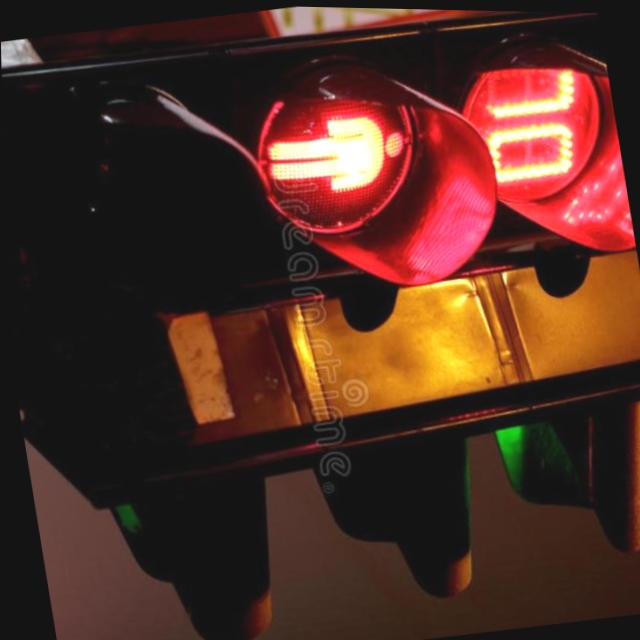red_light: (240, 39, 456, 289)
